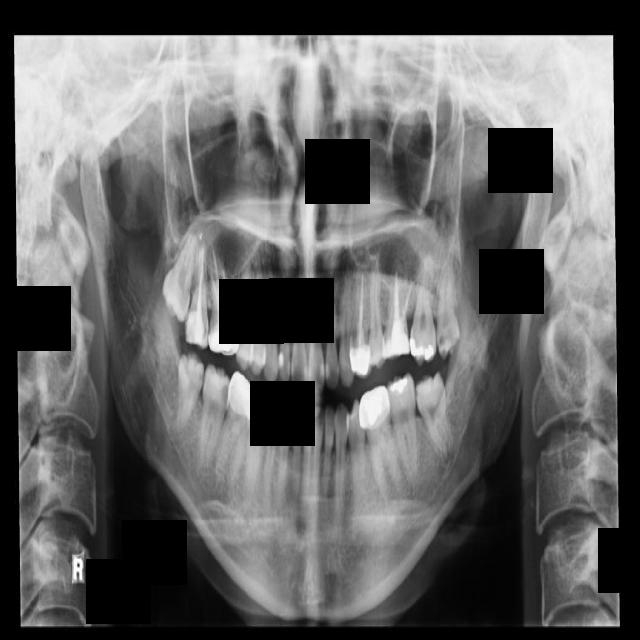3M ESPE Implant: (158, 225, 200, 323)
52: (357, 385, 392, 441), (226, 371, 259, 430), (383, 371, 420, 417), (406, 318, 439, 368), (345, 332, 376, 381), (182, 303, 213, 350), (206, 320, 242, 357), (379, 324, 413, 363), (291, 347, 308, 394), (308, 349, 324, 396), (324, 349, 341, 389), (279, 345, 291, 384)
73: (196, 241, 237, 328), (383, 258, 419, 332), (350, 261, 374, 334), (191, 240, 208, 312), (592, 566, 612, 580)
BioHorizons Implant: (405, 258, 438, 366)
BioLife Implant: (432, 264, 462, 359)
Biomet 3i Implant: (413, 372, 456, 465)
Blue Sky Bio Implant: (386, 373, 419, 479)
Caries: (181, 239, 210, 349)
Implant: (200, 363, 232, 459)
Keystone Dental Implant: (176, 351, 204, 432)
